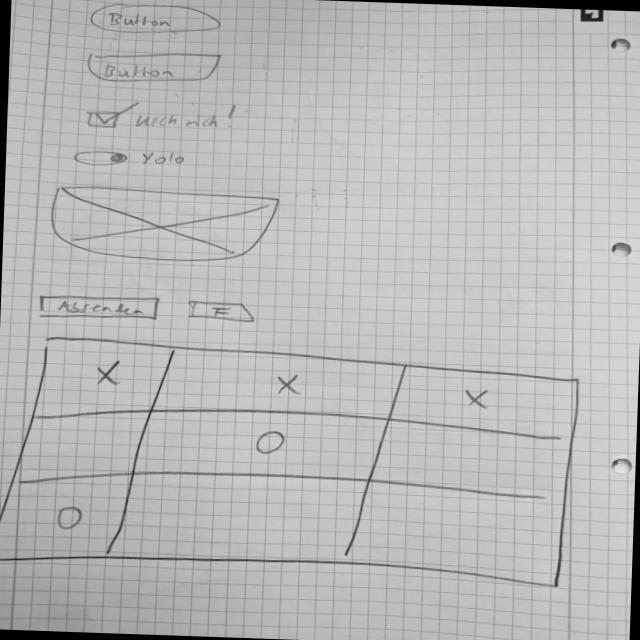button: (80, 48, 227, 88), (86, 1, 226, 36), (36, 292, 164, 324)
checkbox: (82, 97, 242, 137)
icon-button: (186, 298, 259, 325)
image: (50, 184, 282, 266)
table: (1, 333, 584, 590)
text: (139, 148, 190, 170)
toggle: (73, 146, 131, 170)
